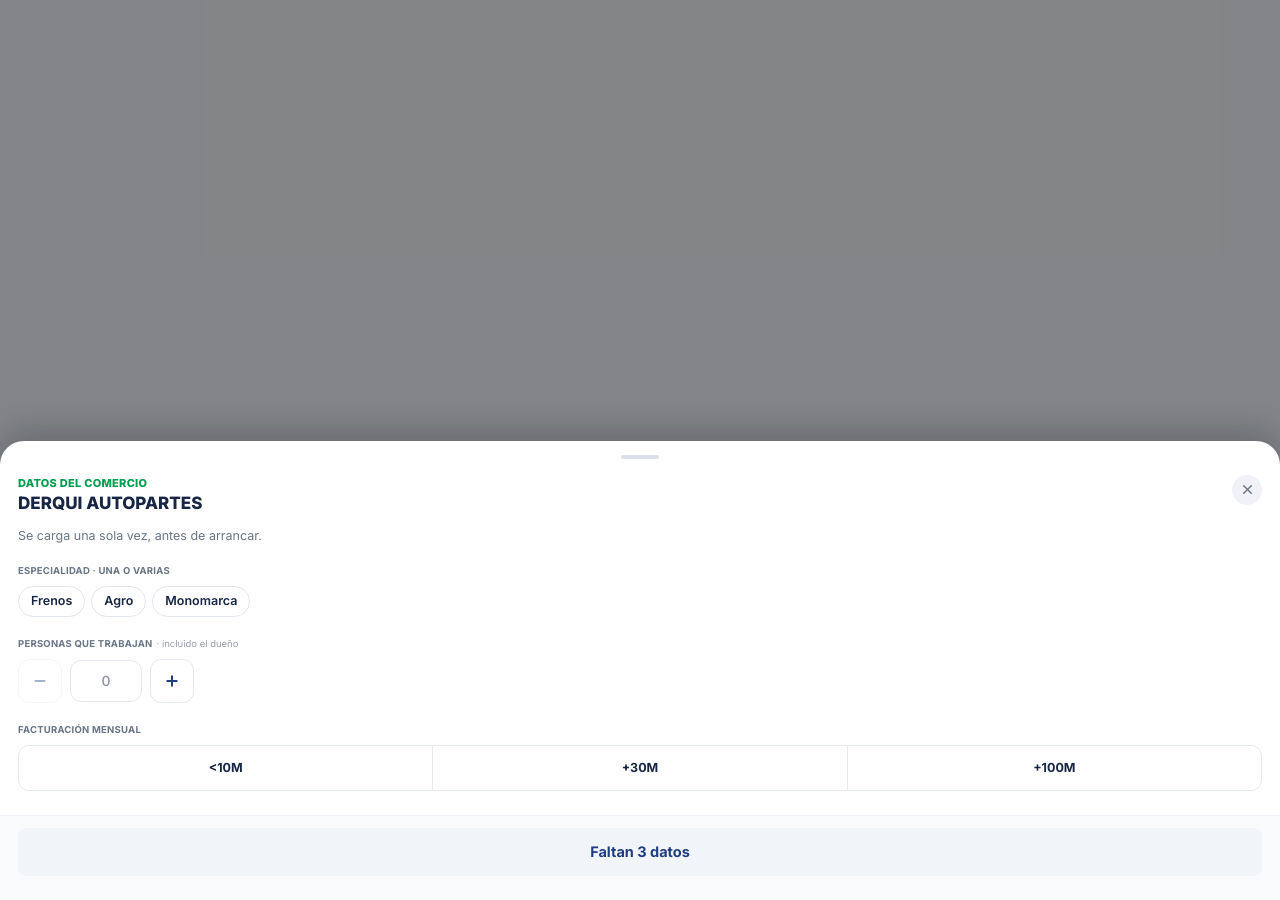
el stepper resuelve el caso típico sin teclado, y arranca en 1 desde vacío
Expected: the button named "restar en personas que trabajan" is disabled, [18, 659, 62, 703]
Click the button named "sumar en personas que trabajan" at (172, 681), box [150, 659, 194, 703]
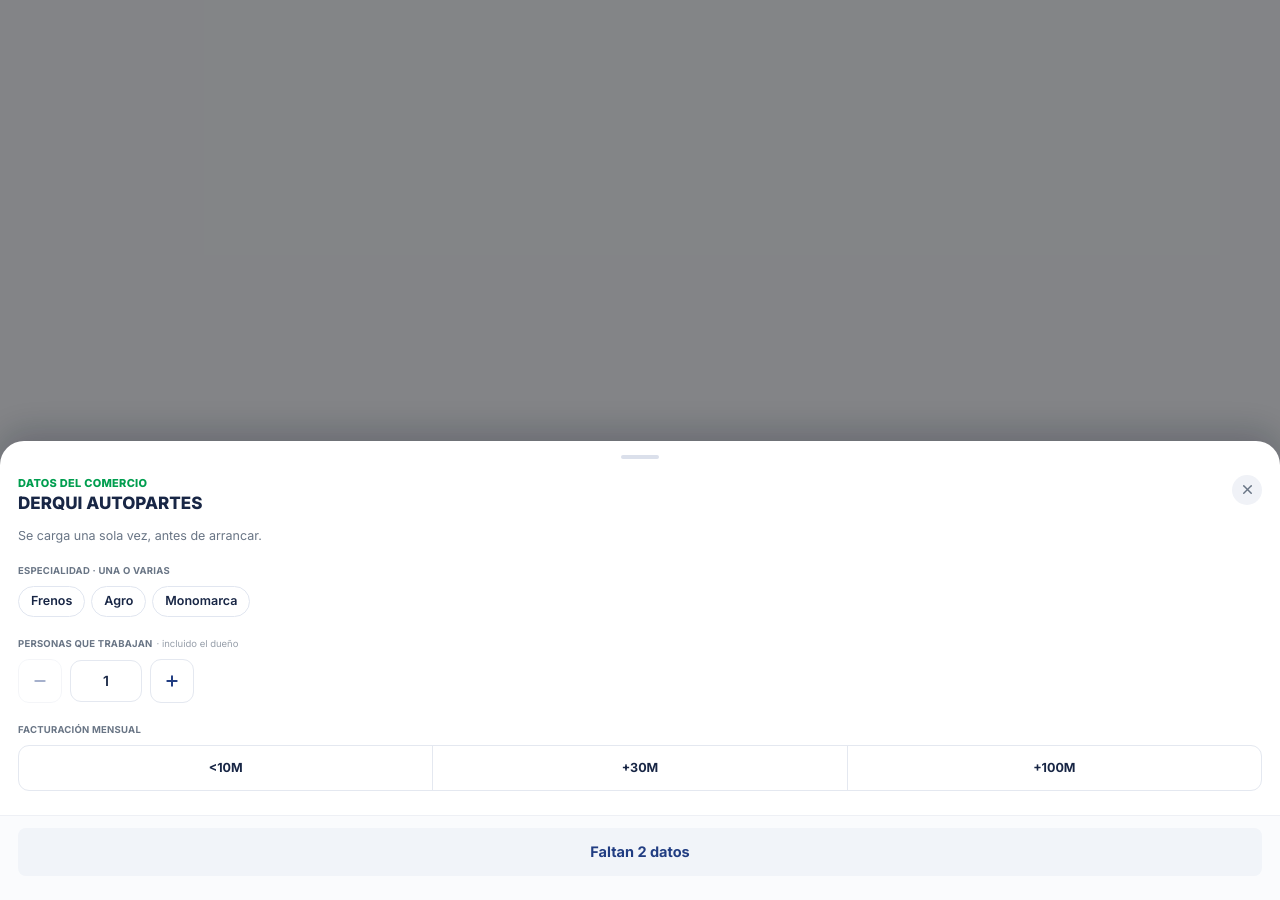
Expected: the button named "restar en personas que trabajan" is disabled, [18, 659, 62, 703]
Expected: the field labelled "Personas que trabajan· incluido el dueño" holds "1", [70, 660, 142, 702]
Click the button named "sumar en personas que trabajan" at (172, 681), box [150, 659, 194, 703]
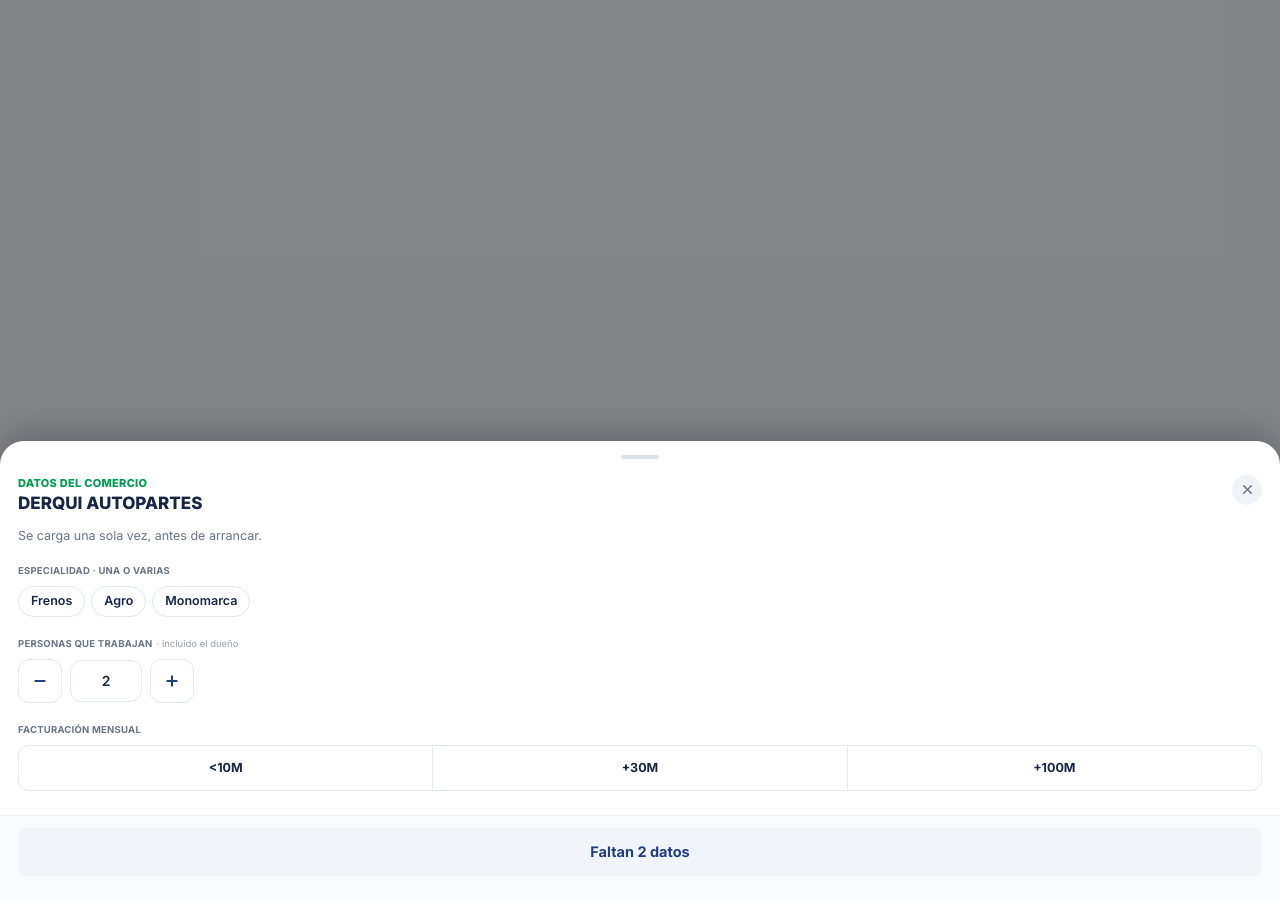
Click the button named "sumar en personas que trabajan" at (172, 681), box [150, 659, 194, 703]
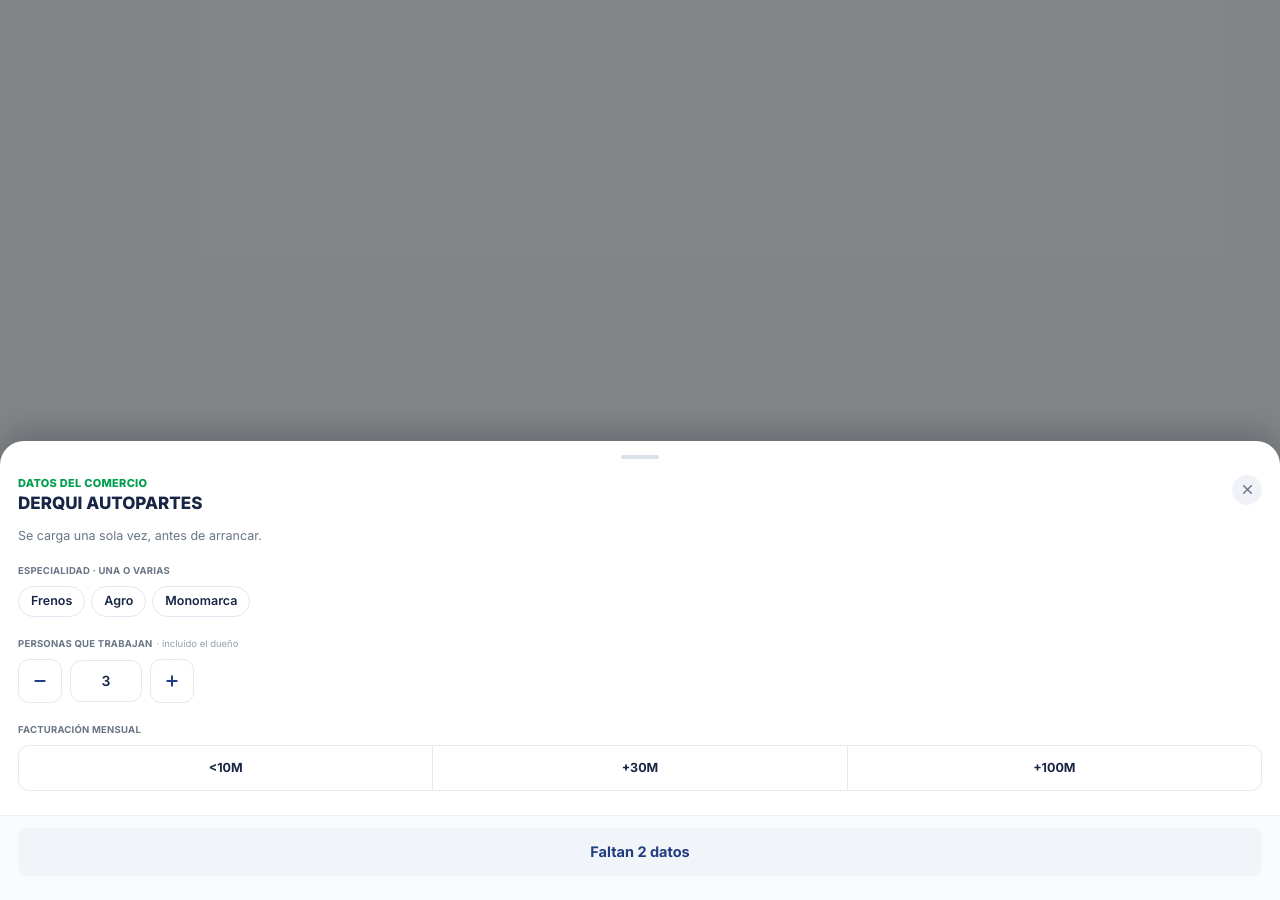
Expected: the field labelled "Personas que trabajan· incluido el dueño" holds "3", [70, 660, 142, 702]
Click the button named "restar en personas que trabajan" at (40, 681), box [18, 659, 62, 703]
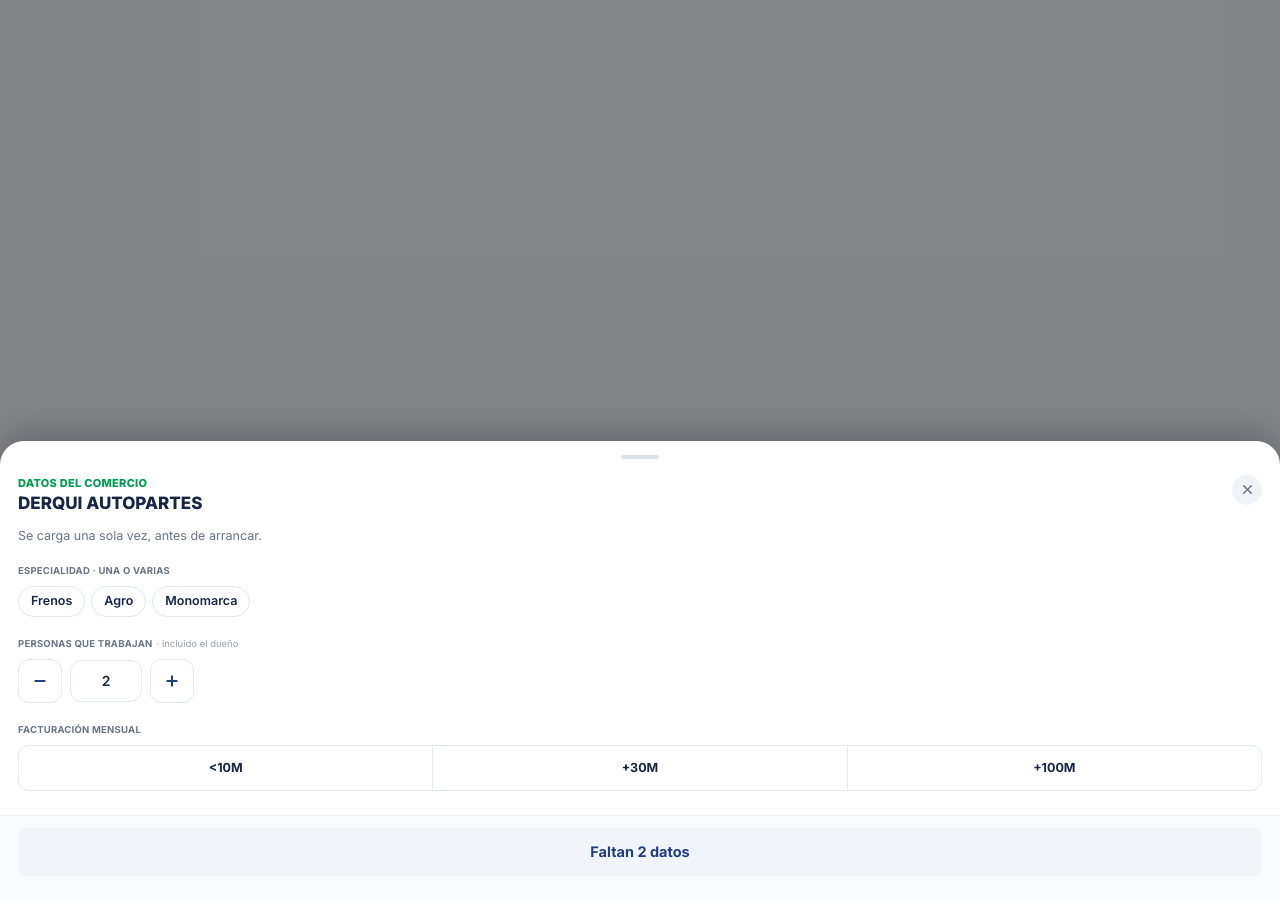
Expected: the field labelled "Personas que trabajan· incluido el dueño" holds "2", [70, 660, 142, 702]
